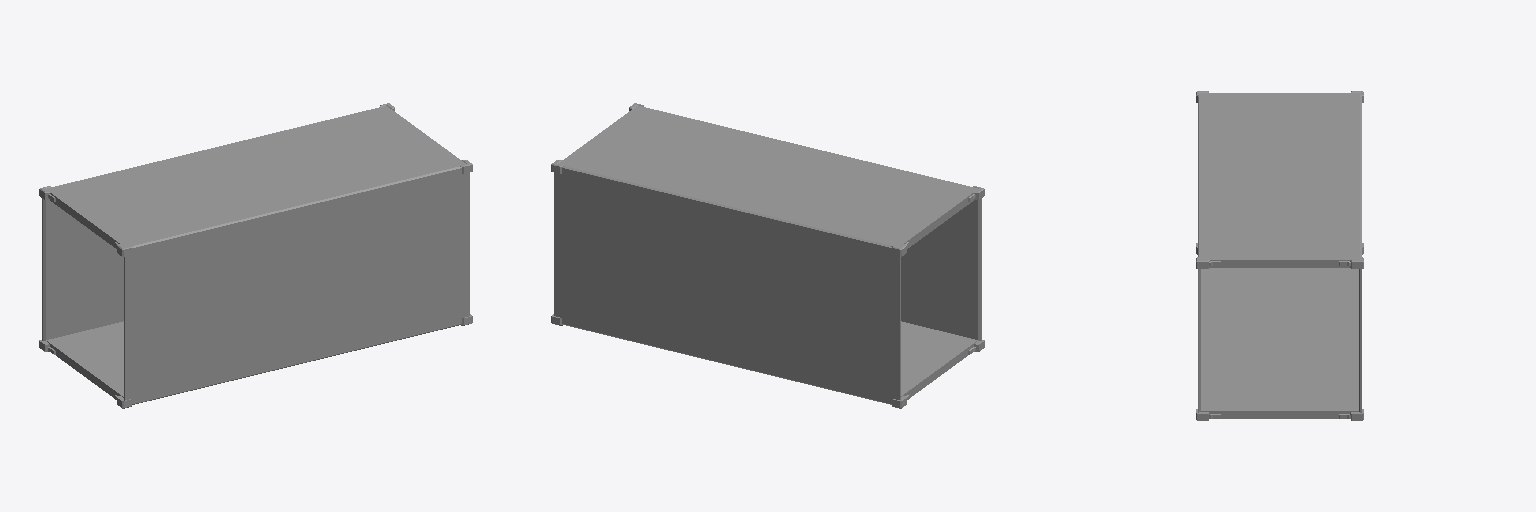
Rendered from Cargo_container_02.obj.
The picture shows the model from 3 angles: view 1: azimuth 30°, elevation 25°; view 2: azimuth 150°, elevation 25°; view 3: azimuth 270°, elevation 25°; orthographic projection.
Size of the model in its own units: 23.97 by 10.46 by 9.92.